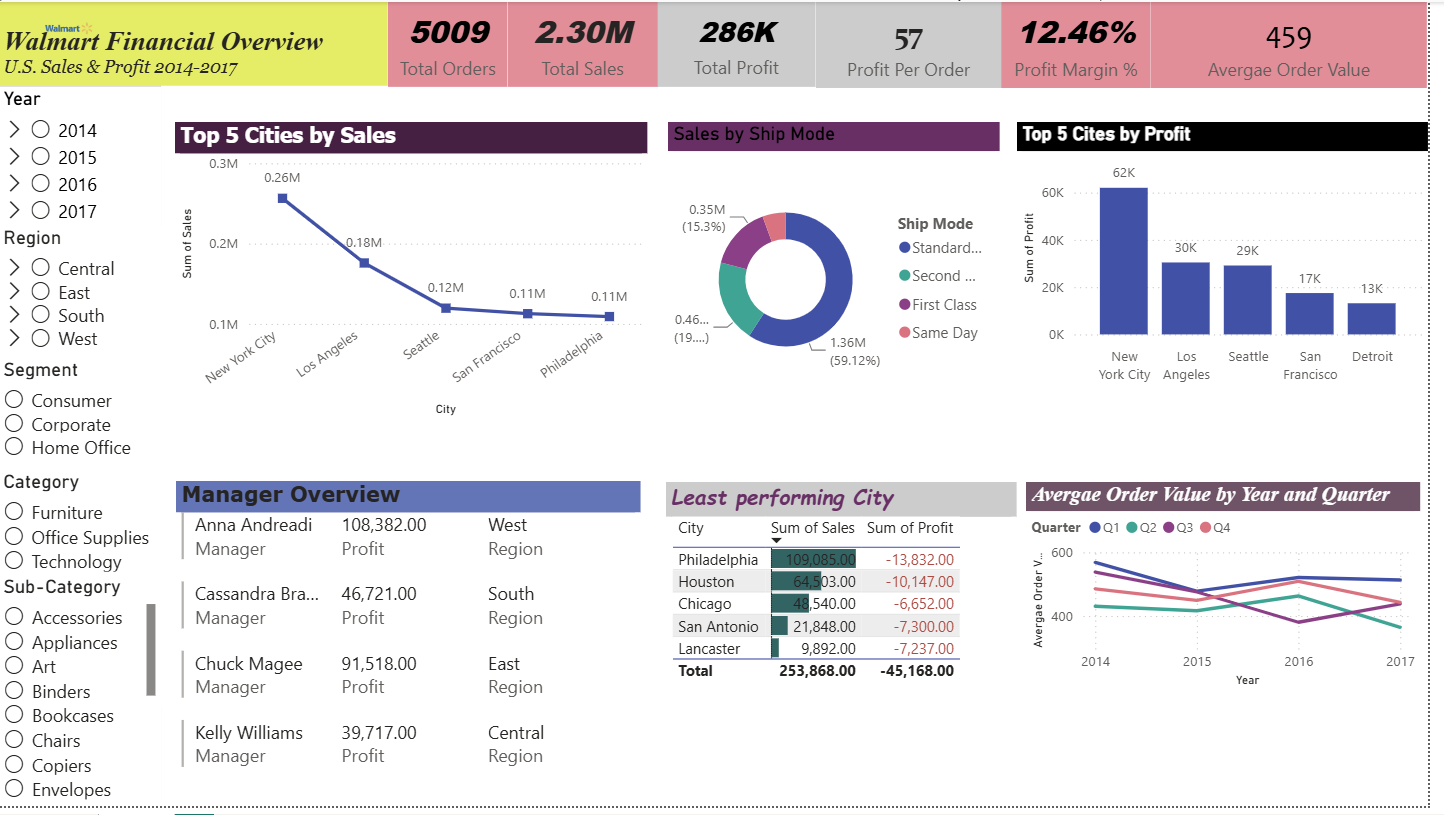

Layout of this report page (visuals, bound fields, positions):
{"tool":"powerbi","page":{"name":"Page 1","canvas":[1280,720],"ordinal":0},"visuals":[{"type":"shape","box":[0,69.6,145.8,651],"z":500},{"type":"listSlicer","fields":{"Values":["DateTable.Year","DateTable.Quarter"]},"box":[0,75.9,146.3,225.9],"z":1000},{"type":"textbox","box":[0,0,349.3,75.4],"z":2000},{"type":"card","fields":{"Values":["Orders.Total Profit"]},"box":[590.4,0,142.2,75.9],"z":3000},{"type":"card","fields":{"Values":["Orders.Total Sales"]},"box":[456.6,0,133.7,75.9],"z":4000},{"type":"card","fields":{"Values":["Orders.Total Orders"]},"box":[349.4,0,107.2,75.9],"z":5000},{"type":"card","fields":{"Values":["Orders.Profit Margin %"]},"box":[898.4,0,134.4,76.6],"z":6000},{"type":"listSlicer","fields":{"Values":["Orders.Region","Orders.City"]},"box":[0,200.4,147.4,203.7],"z":7000},{"type":"listSlicer","fields":{"Values":["Orders.Segment"]},"box":[0,318.8,146.9,204.7],"z":8000},{"type":"listSlicer","fields":{"Values":["Orders.Category"]},"box":[0,418.8,146.9,210.9],"z":9000},{"type":"listSlicer","fields":{"Values":["Orders.Sub-Category"]},"box":[0,513,146.3,207.4],"z":10000},{"type":"clusteredColumnChart","title":"Top 5 Cites by Profit","fields":{"Y":["Sum(Orders.Profit)"],"Category":["Orders.City"]},"box":[912.2,107.8,367.8,252.2],"z":11000},{"type":"lineChart","title":" Top 5 Cities by Sales","fields":{"Y":["Sum(Orders.Sales)"],"Category":["Orders.City"]},"box":[158.9,107.8,423.3,267.8],"z":12000},{"type":"donutChart","title":"Sales by Ship Mode","fields":{"Category":["Orders.Ship Mode"],"Y":["Sum(Orders.Sales)"]},"box":[600,107.8,296.7,261.1],"z":13000},{"type":"multiRowCard","title":"Manager Overview","fields":{"Values":["Merge2.Person","Sum(Merge2.Profit)","People.Region"]},"box":[159,429,415.8,291.5],"z":14000},{"type":"tableEx","title":"Least performing City","fields":{"Values":["Orders.City","Sum(Orders.Sales)","Sum(Orders.Profit)"]},"box":[598.4,429.7,314.1,185.9],"z":15000},{"type":"card","fields":{"Values":["Orders.Profit Per Order"]},"box":[732.8,0,165.6,76.6],"z":16000},{"type":"card","fields":{"Values":["Orders.Avergae Order Value"]},"box":[1032.8,0,246.9,76.6],"z":17000},{"type":"lineChart","fields":{"Y":["Orders.Avergae Order Value"],"Category":["DateTable1.Date.Variation.Date Hierarchy.Year","DateTable1.Date.Variation.Date Hierarchy.Quarter","DateTable1.Date.Variation.Date Hierarchy.Month","DateTable1.Date.Variation.Date Hierarchy.Day"],"Series":["DateTable1.Quarter"]},"box":[920.3,429.7,353.1,187.5],"z":18000},{"type":"image","box":[1.5,0,122.7,47],"z":19000}]}

Visuals, with their boxes in screenshot pixels (x1, y1, x2, y2), scaled from the page's 1280x720 canvas onto the 1444x815 screenshot:
shape: (0, 79, 164, 814)
listSlicer - DateTable.Year x DateTable.Quarter: (0, 86, 165, 342)
textbox: (0, 0, 394, 85)
card - Orders.Total Profit: (666, 0, 826, 86)
card - Orders.Total Sales: (515, 0, 666, 86)
card - Orders.Total Orders: (394, 0, 515, 86)
card - Orders.Profit Margin %: (1014, 0, 1165, 87)
listSlicer - Orders.Region x Orders.City: (0, 227, 166, 457)
listSlicer - Orders.Segment: (0, 361, 166, 593)
listSlicer - Orders.Category: (0, 474, 166, 713)
listSlicer - Orders.Sub-Category: (0, 581, 165, 814)
"Top 5 Cites by Profit" clusteredColumnChart: (1029, 122, 1443, 408)
" Top 5 Cities by Sales" lineChart: (179, 122, 657, 425)
"Sales by Ship Mode" donutChart: (677, 122, 1012, 418)
"Manager Overview" multiRowCard: (179, 486, 648, 814)
"Least performing City" tableEx: (675, 486, 1029, 697)
card - Orders.Profit Per Order: (827, 0, 1014, 87)
card - Orders.Avergae Order Value: (1165, 0, 1443, 87)
lineChart - Orders.Avergae Order Value x DateTable1.Date.Variation.Date Hierarchy.Year: (1038, 486, 1437, 699)
image: (2, 0, 140, 53)
